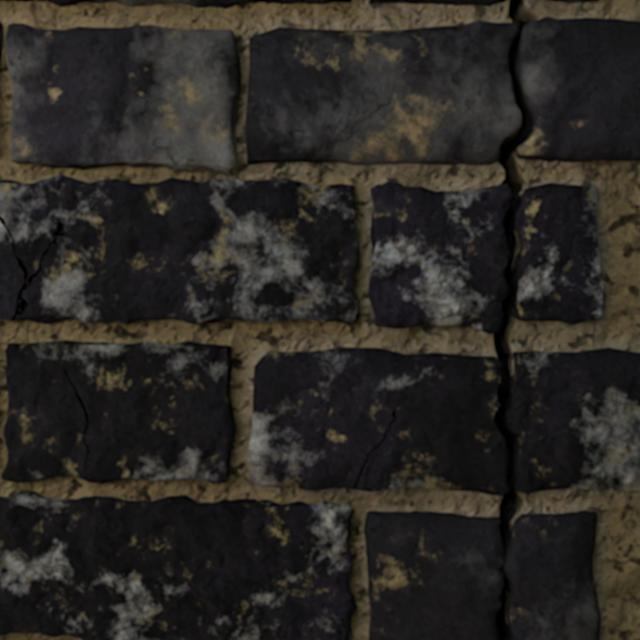broken_brick: (245, 21, 520, 165), (247, 347, 508, 495), (364, 510, 600, 639), (368, 181, 511, 333), (509, 348, 639, 494), (517, 17, 639, 162), (517, 183, 605, 324), (370, 0, 506, 6), (549, 0, 598, 3)
crack: (0, 175, 358, 324), (0, 491, 356, 639), (6, 23, 240, 174), (1, 340, 235, 483), (493, 0, 541, 553), (353, 408, 396, 489), (0, 0, 350, 8), (495, 576, 514, 639), (372, 560, 374, 629), (396, 485, 462, 487), (0, 23, 3, 59), (252, 481, 280, 483), (256, 367, 257, 395), (379, 219, 380, 230)
